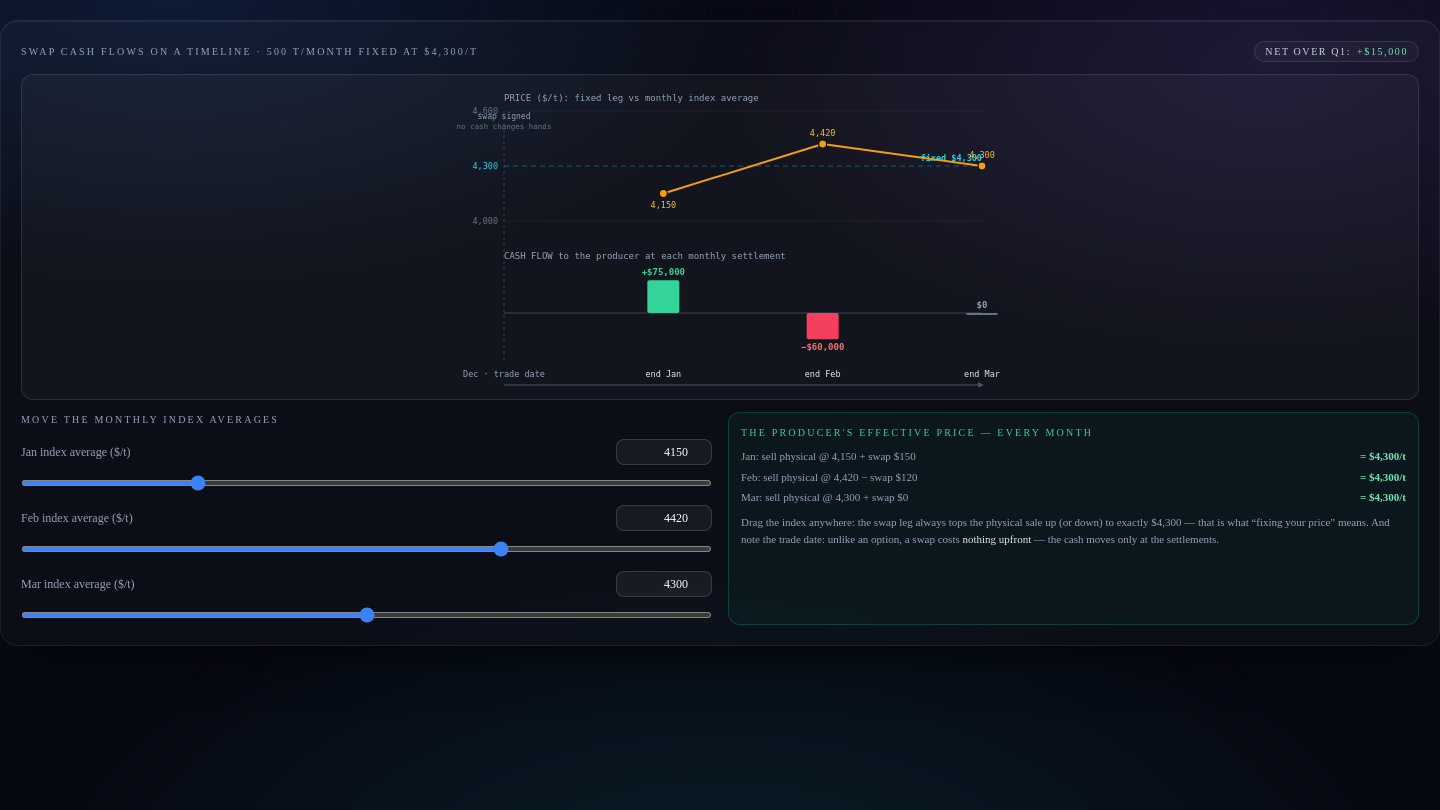
SwapTimeline: defaults show the Q1 flows and the pinned effective price
The image size is (1440, 810).
Replace the text in the number field named "Feb index average ($/t)" with "4300" at (664, 518), box [616,505,712,531]
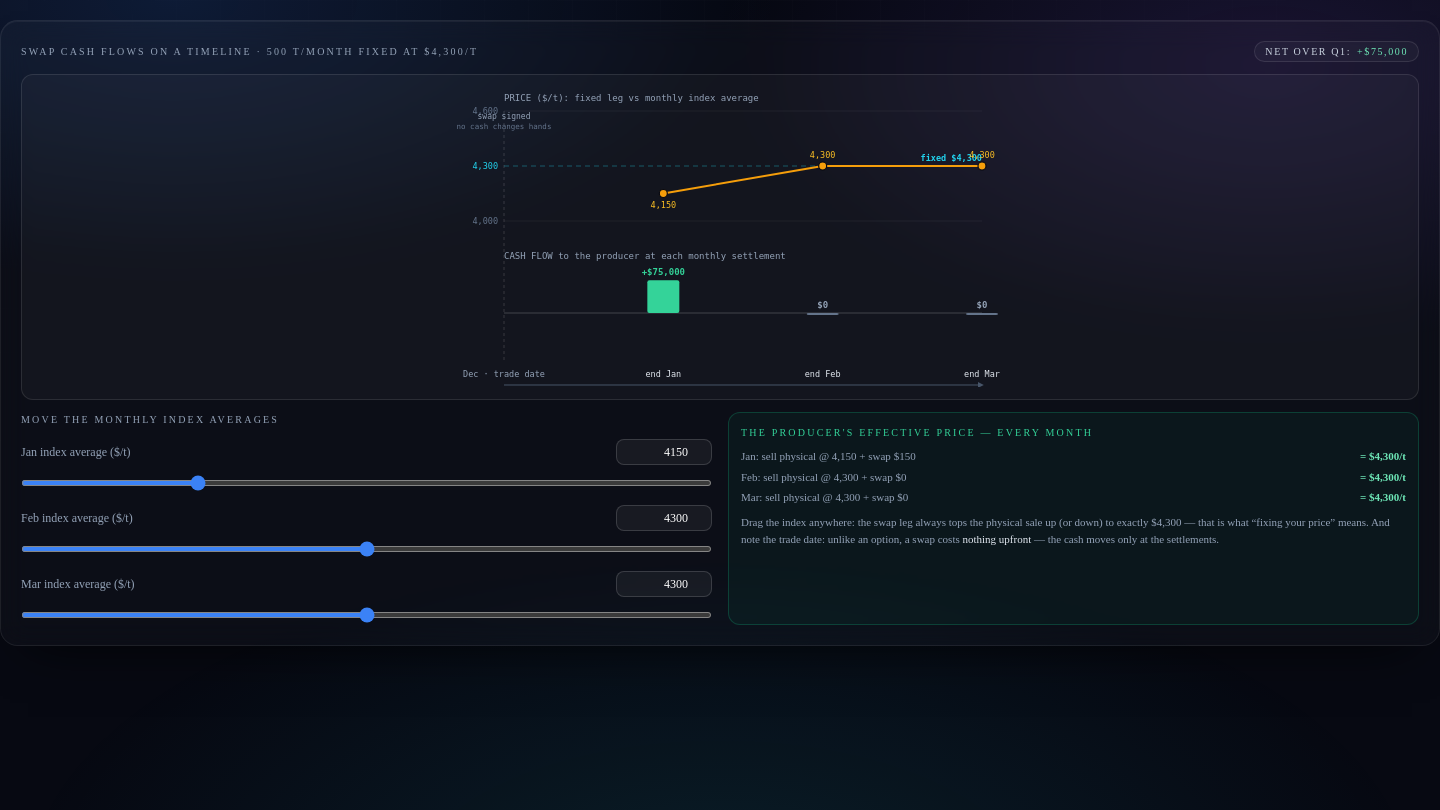
Check: the text "+$75,000" is shown, box [1357,44,1408,59]
Check: the text "−$60,000" is gone
